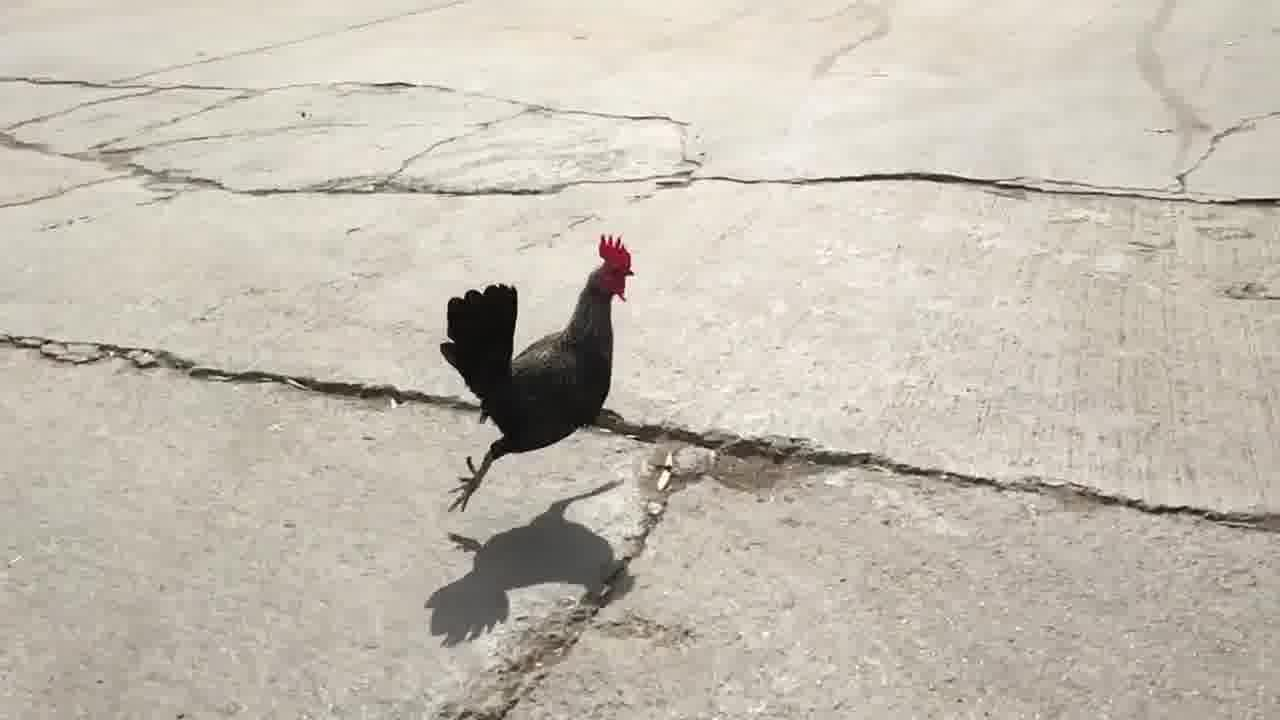Normal: (428, 232, 656, 508)
